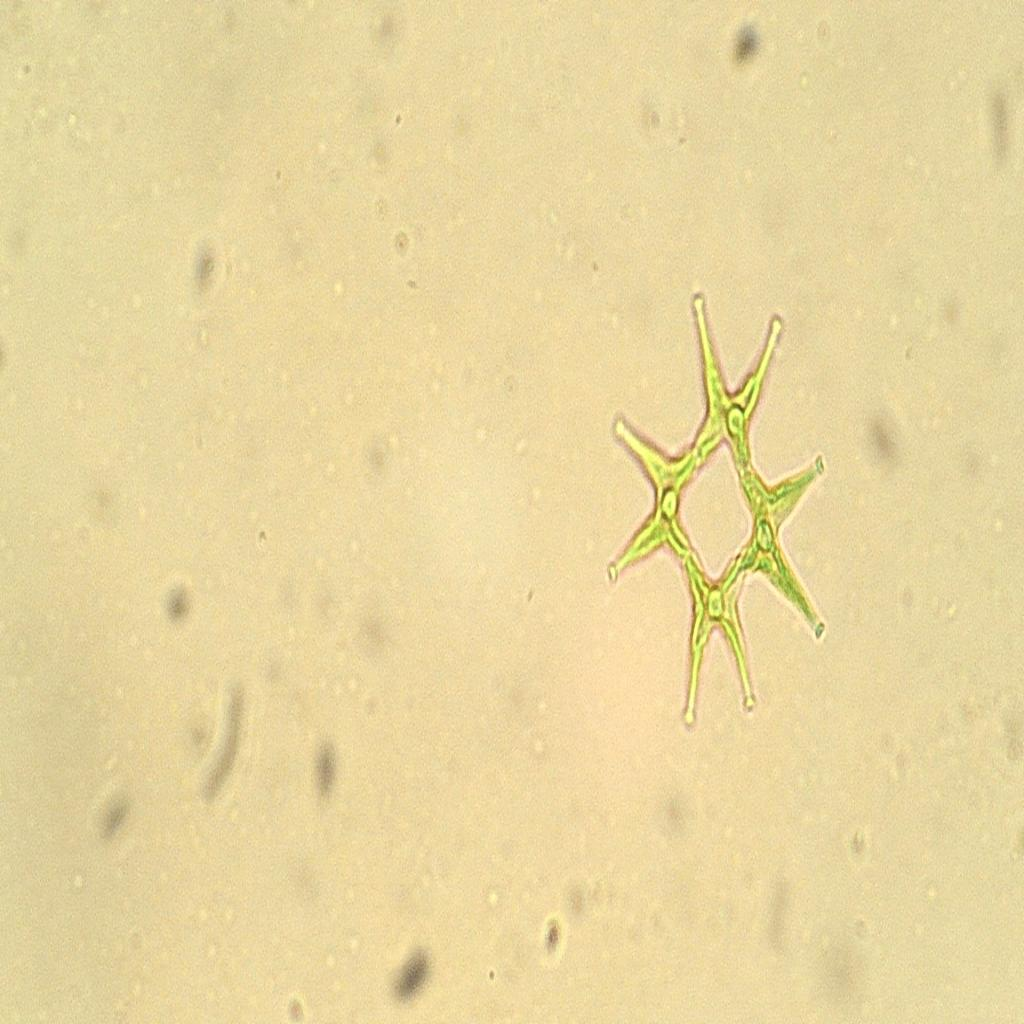Pediastrum_CO: (599, 268, 832, 748)
